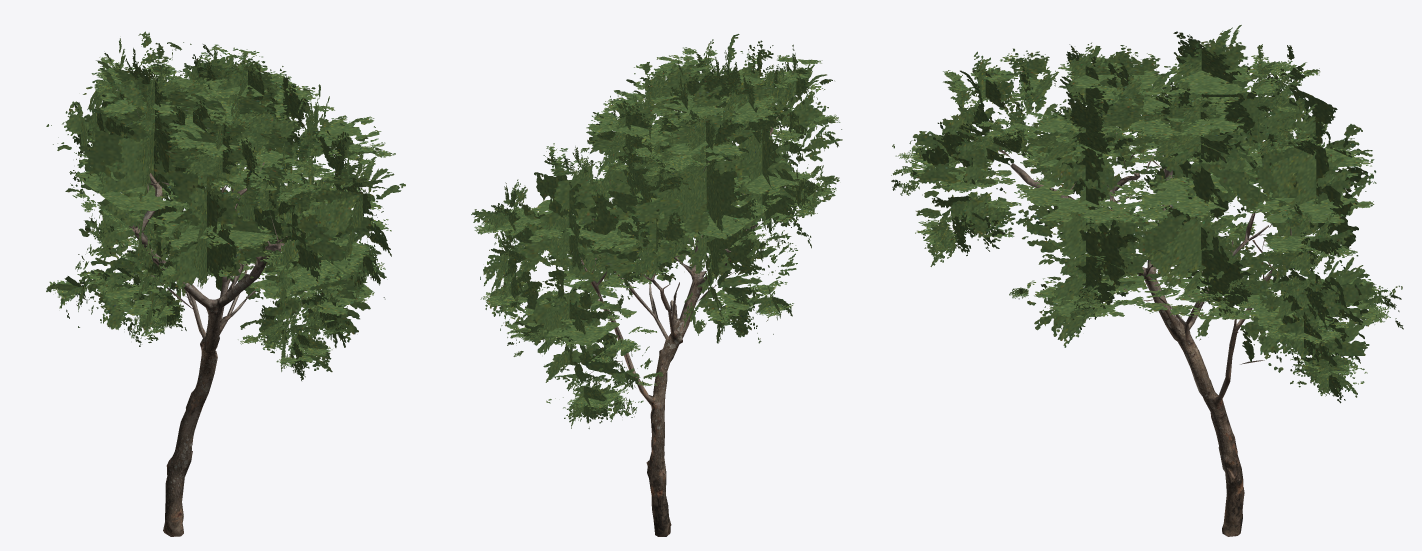
The picture shows the model from 3 angles, left to right: view 1: azimuth 30°, elevation 25°; view 2: azimuth 150°, elevation 25°; view 3: azimuth 270°, elevation 25°; orthographic projection. The views are drawn at different scales.
Visible parts, largest first — view 1: tree_small_02_LOD0; view 2: tree_small_02_LOD0; view 3: tree_small_02_LOD0.
Boxes of the visible parts, x1,y1,x2,y2 form: tree_small_02_LOD0: [46, 31, 405, 536]; tree_small_02_LOD0: [471, 34, 842, 536]; tree_small_02_LOD0: [891, 25, 1403, 536].
Bounding box in the file's own units: 3.11 × 4.57 × 4.53.
Materials: 3 (3 with a texture image).
